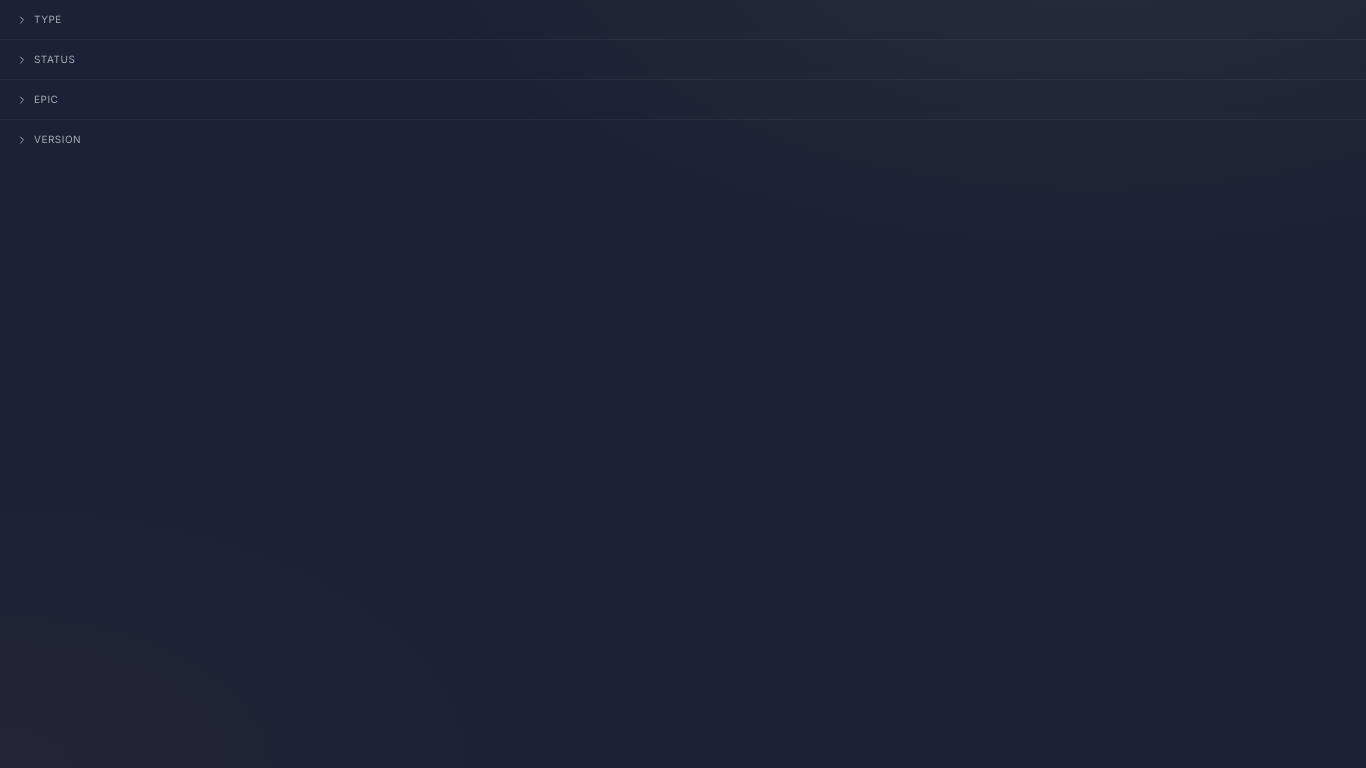
Scenario: filter groups › reveals a group's options when its header is clicked, and keeps others closed
The width and height of the screenshot is (1366, 768).
Later steps or results of the test are not shown.
Click the button "Type" at (22, 20), box [8, 8, 1358, 31]
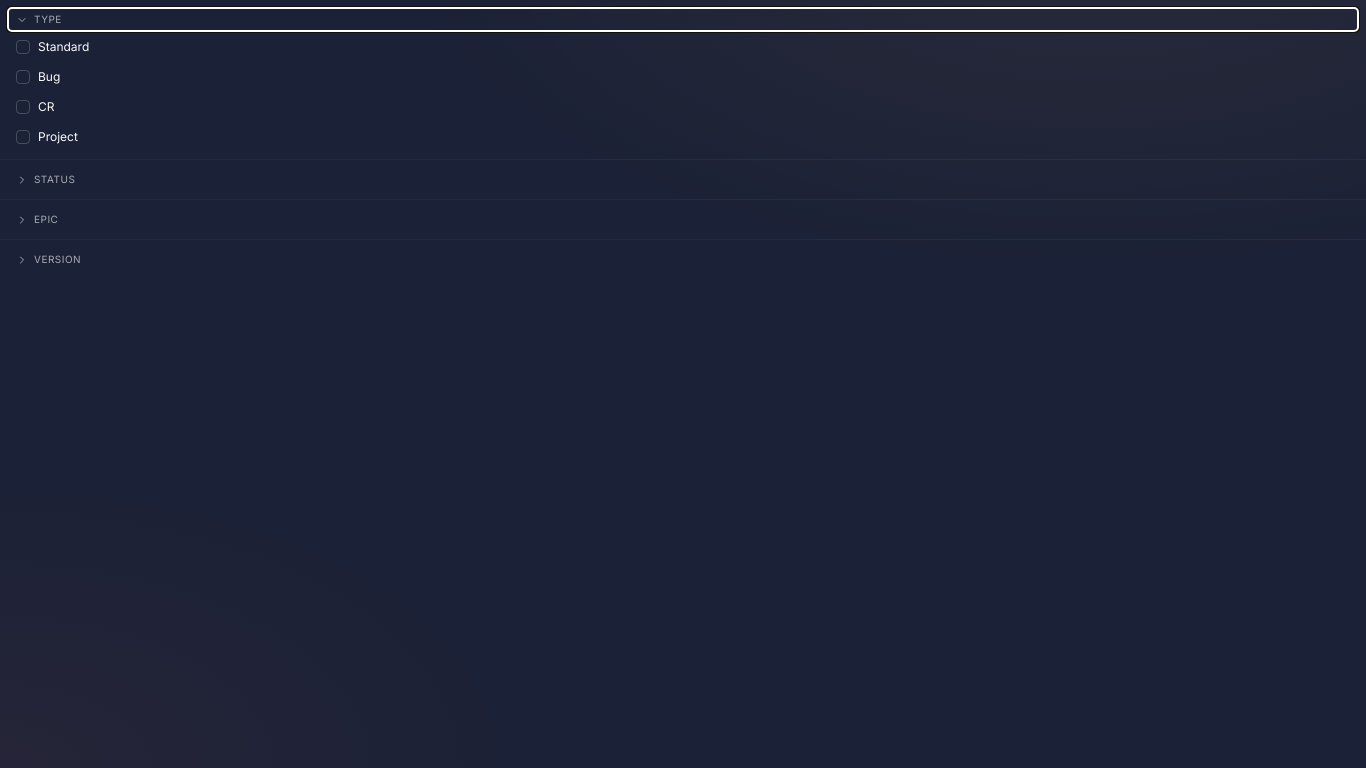
Now the text "Bug" is shown, box [38, 69, 60, 85]
